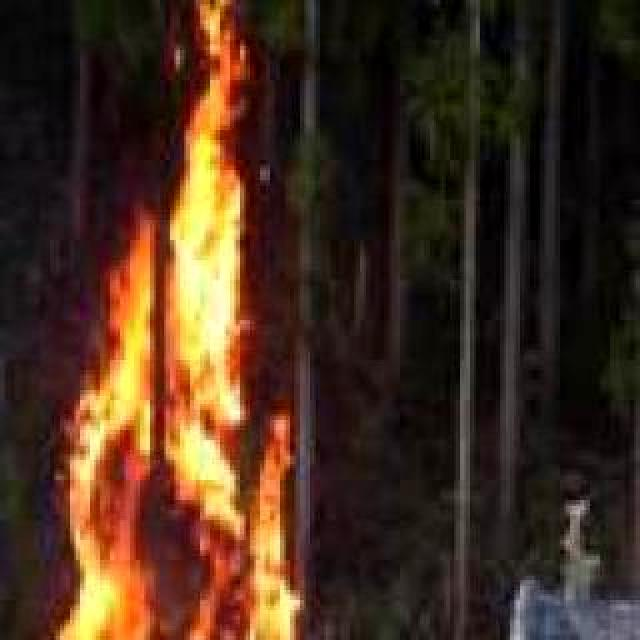fire: (22, 0, 318, 640)
